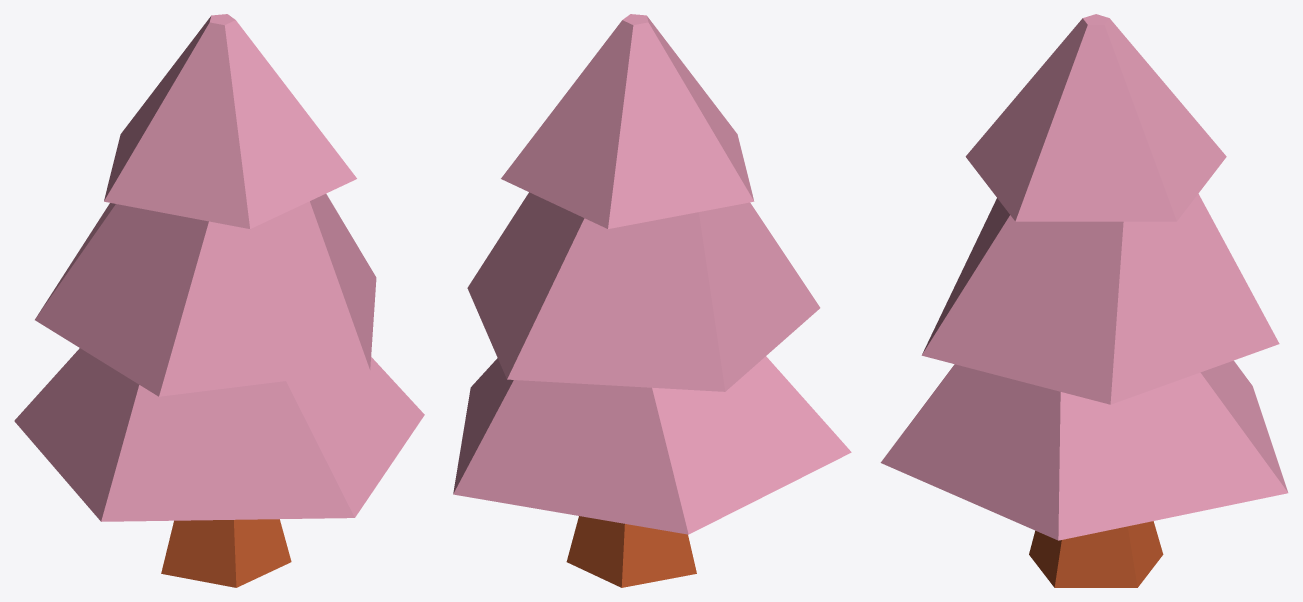
The model's file is pinkTree.fbx.
The picture shows the model from 3 angles, left to right: view 1: azimuth 30°, elevation 25°; view 2: azimuth 150°, elevation 25°; view 3: azimuth 270°, elevation 25°; orthographic projection.
Parts seen in each view (by area): view 1: Cylinder.118, Cylinder.000; view 2: Cylinder.118, Cylinder.000; view 3: Cylinder.118, Cylinder.000.
Boxes of the visible parts, x1,y1,x2,y2 form: Cylinder.118: (14, 14, 424, 521); Cylinder.000: (161, 519, 291, 587); Cylinder.118: (453, 14, 851, 534); Cylinder.000: (566, 516, 696, 587); Cylinder.118: (880, 14, 1288, 540); Cylinder.000: (1029, 521, 1163, 587).
Bounding box in the file's own units: 493 × 721 × 490.
